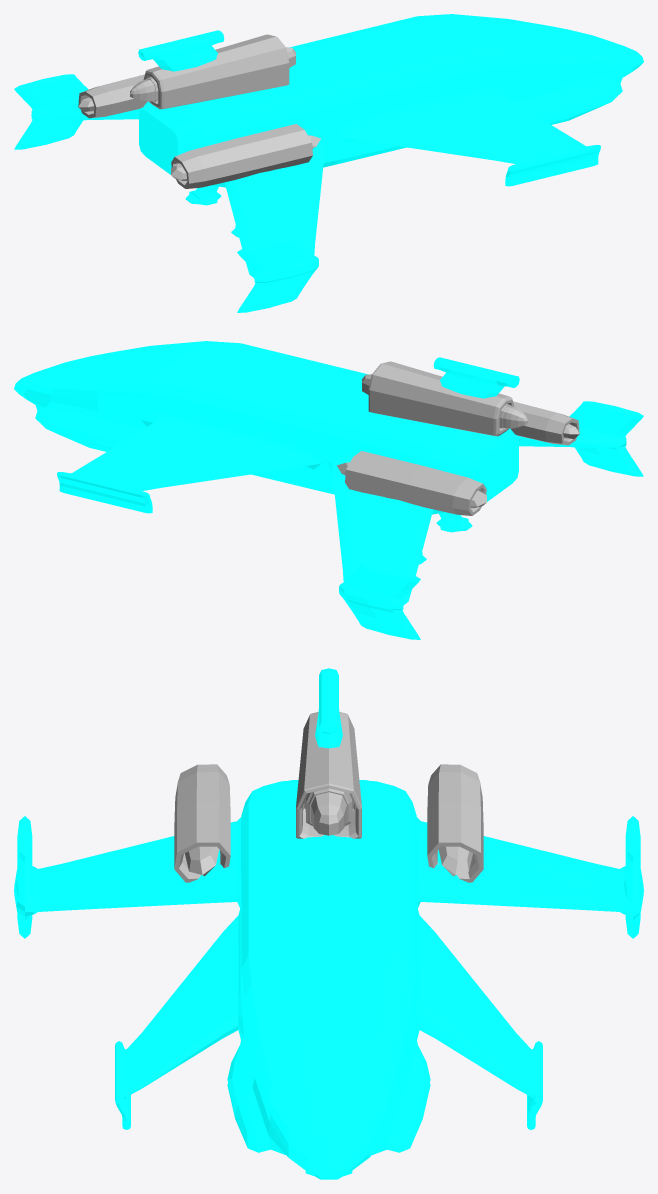
Rendered from spaceship_2.dae.
3 views of the same model, one above another, from view 1: azimuth 30°, elevation 25°; view 2: azimuth 150°, elevation 25°; view 3: azimuth 270°, elevation 25° (orthographic). The views are drawn at different scales.
Visible parts, largest first — view 1: Cube (×3), Cube.1; view 2: Cube (×3), Cube.1; view 3: Cube (×3).
Boxes of the visible parts, bbox=[...] form: Cube (×3): bbox=[14, 14, 643, 312]; Cube.1: bbox=[185, 185, 238, 237]; Cube (×3): bbox=[14, 341, 643, 639]; Cube.1: bbox=[419, 512, 472, 564]; Cube (×3): bbox=[14, 668, 643, 1177].
Size of the model in its own units: 1937 by 663 by 1496.
